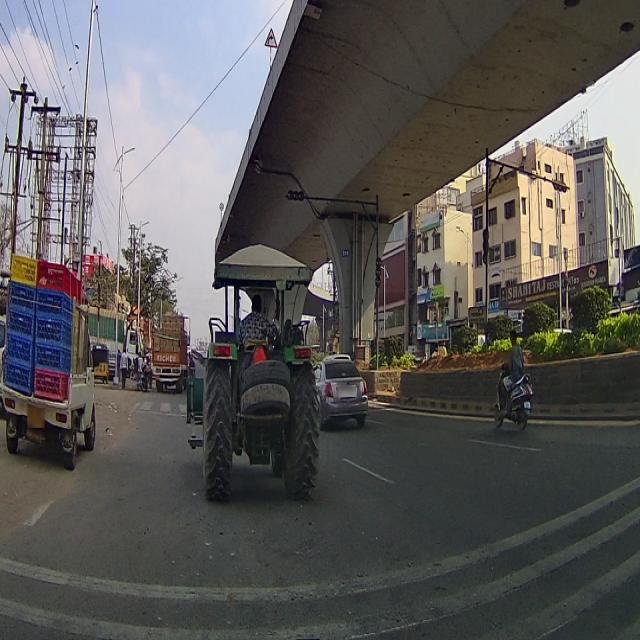right-hand-curve: (264, 24, 277, 52)
